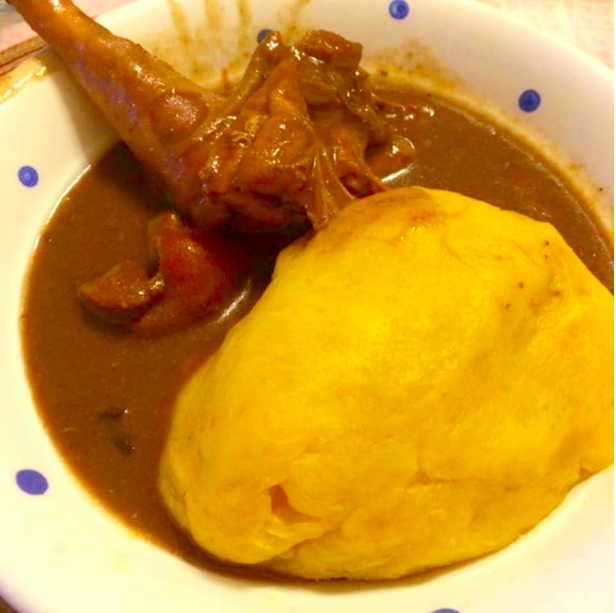foutou banane: (206, 352, 518, 549)
sauce sioko: (32, 331, 166, 508)
viande de brousse: (130, 54, 399, 169)
